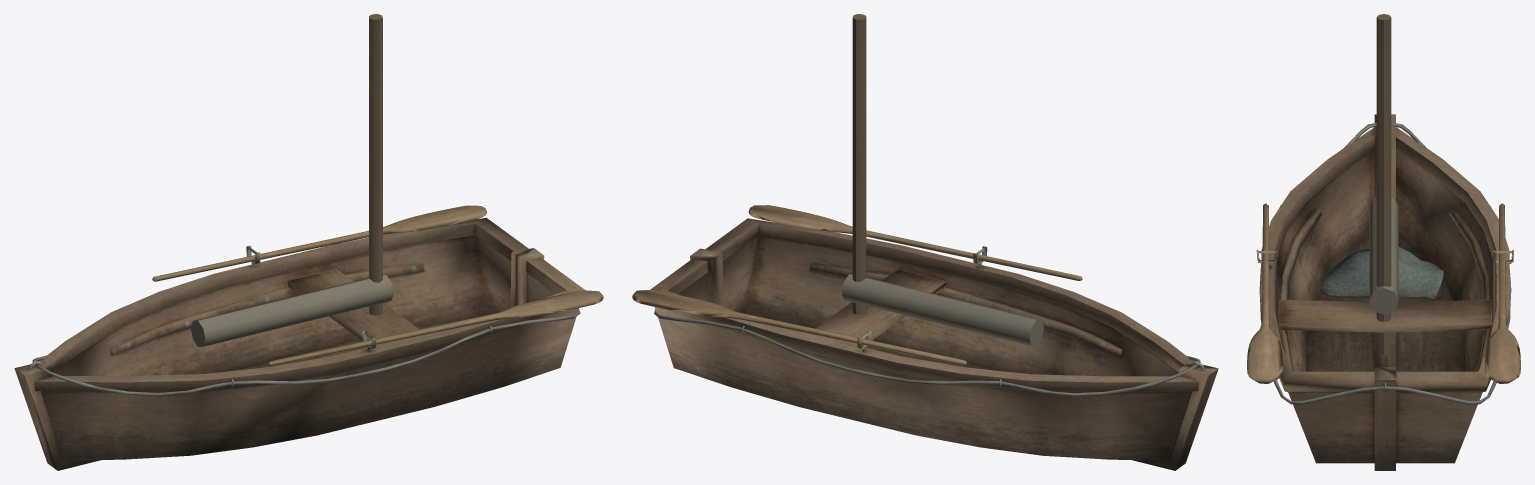
The model's file is a25_boat_b.glb.
The picture shows the model from 3 angles, left to right: view 1: azimuth 30°, elevation 25°; view 2: azimuth 150°, elevation 25°; view 3: azimuth 270°, elevation 25°; orthographic projection. The views are drawn at different scales.
Visible parts, largest first — view 1: body; view 2: body; view 3: body.
Boxes of the visible parts, x1,y1,x2,y2 form: body: [14, 14, 603, 470]; body: [632, 14, 1218, 470]; body: [1247, 14, 1520, 470].
Bounding box in the file's own units: 1 × 0.6801 × 0.4448.
1 material, 1 textured.
